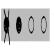correct: (16, 14, 22, 36)
not correct: (3, 8, 10, 46)
